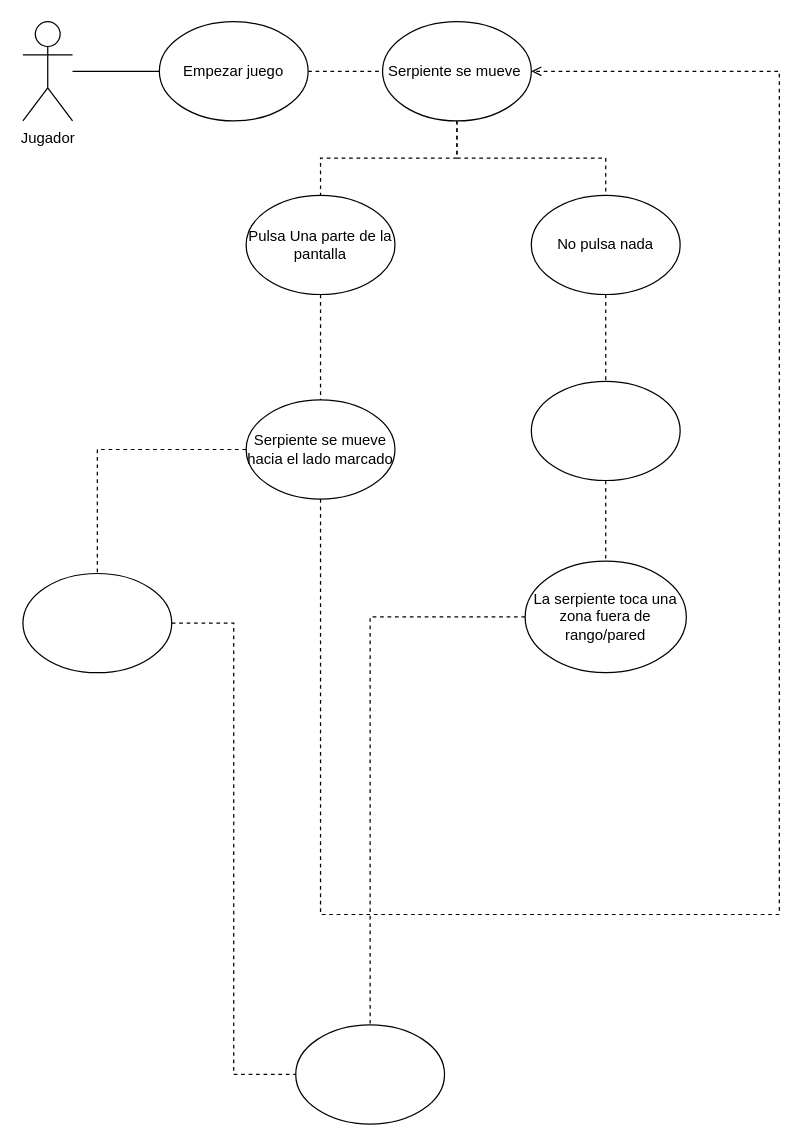
Some shapes in this 811 by 1146 pixel diagram are drawn without their labels. Here are the shapes that lost their labels. From the top down, the centre of each, then its label:
At pixel 605 430: "La serpiente sigue avanzando".
At pixel 97 622: "La Serpiente choca consigo misma".
At pixel 369 1074: "La serpiente muere".
